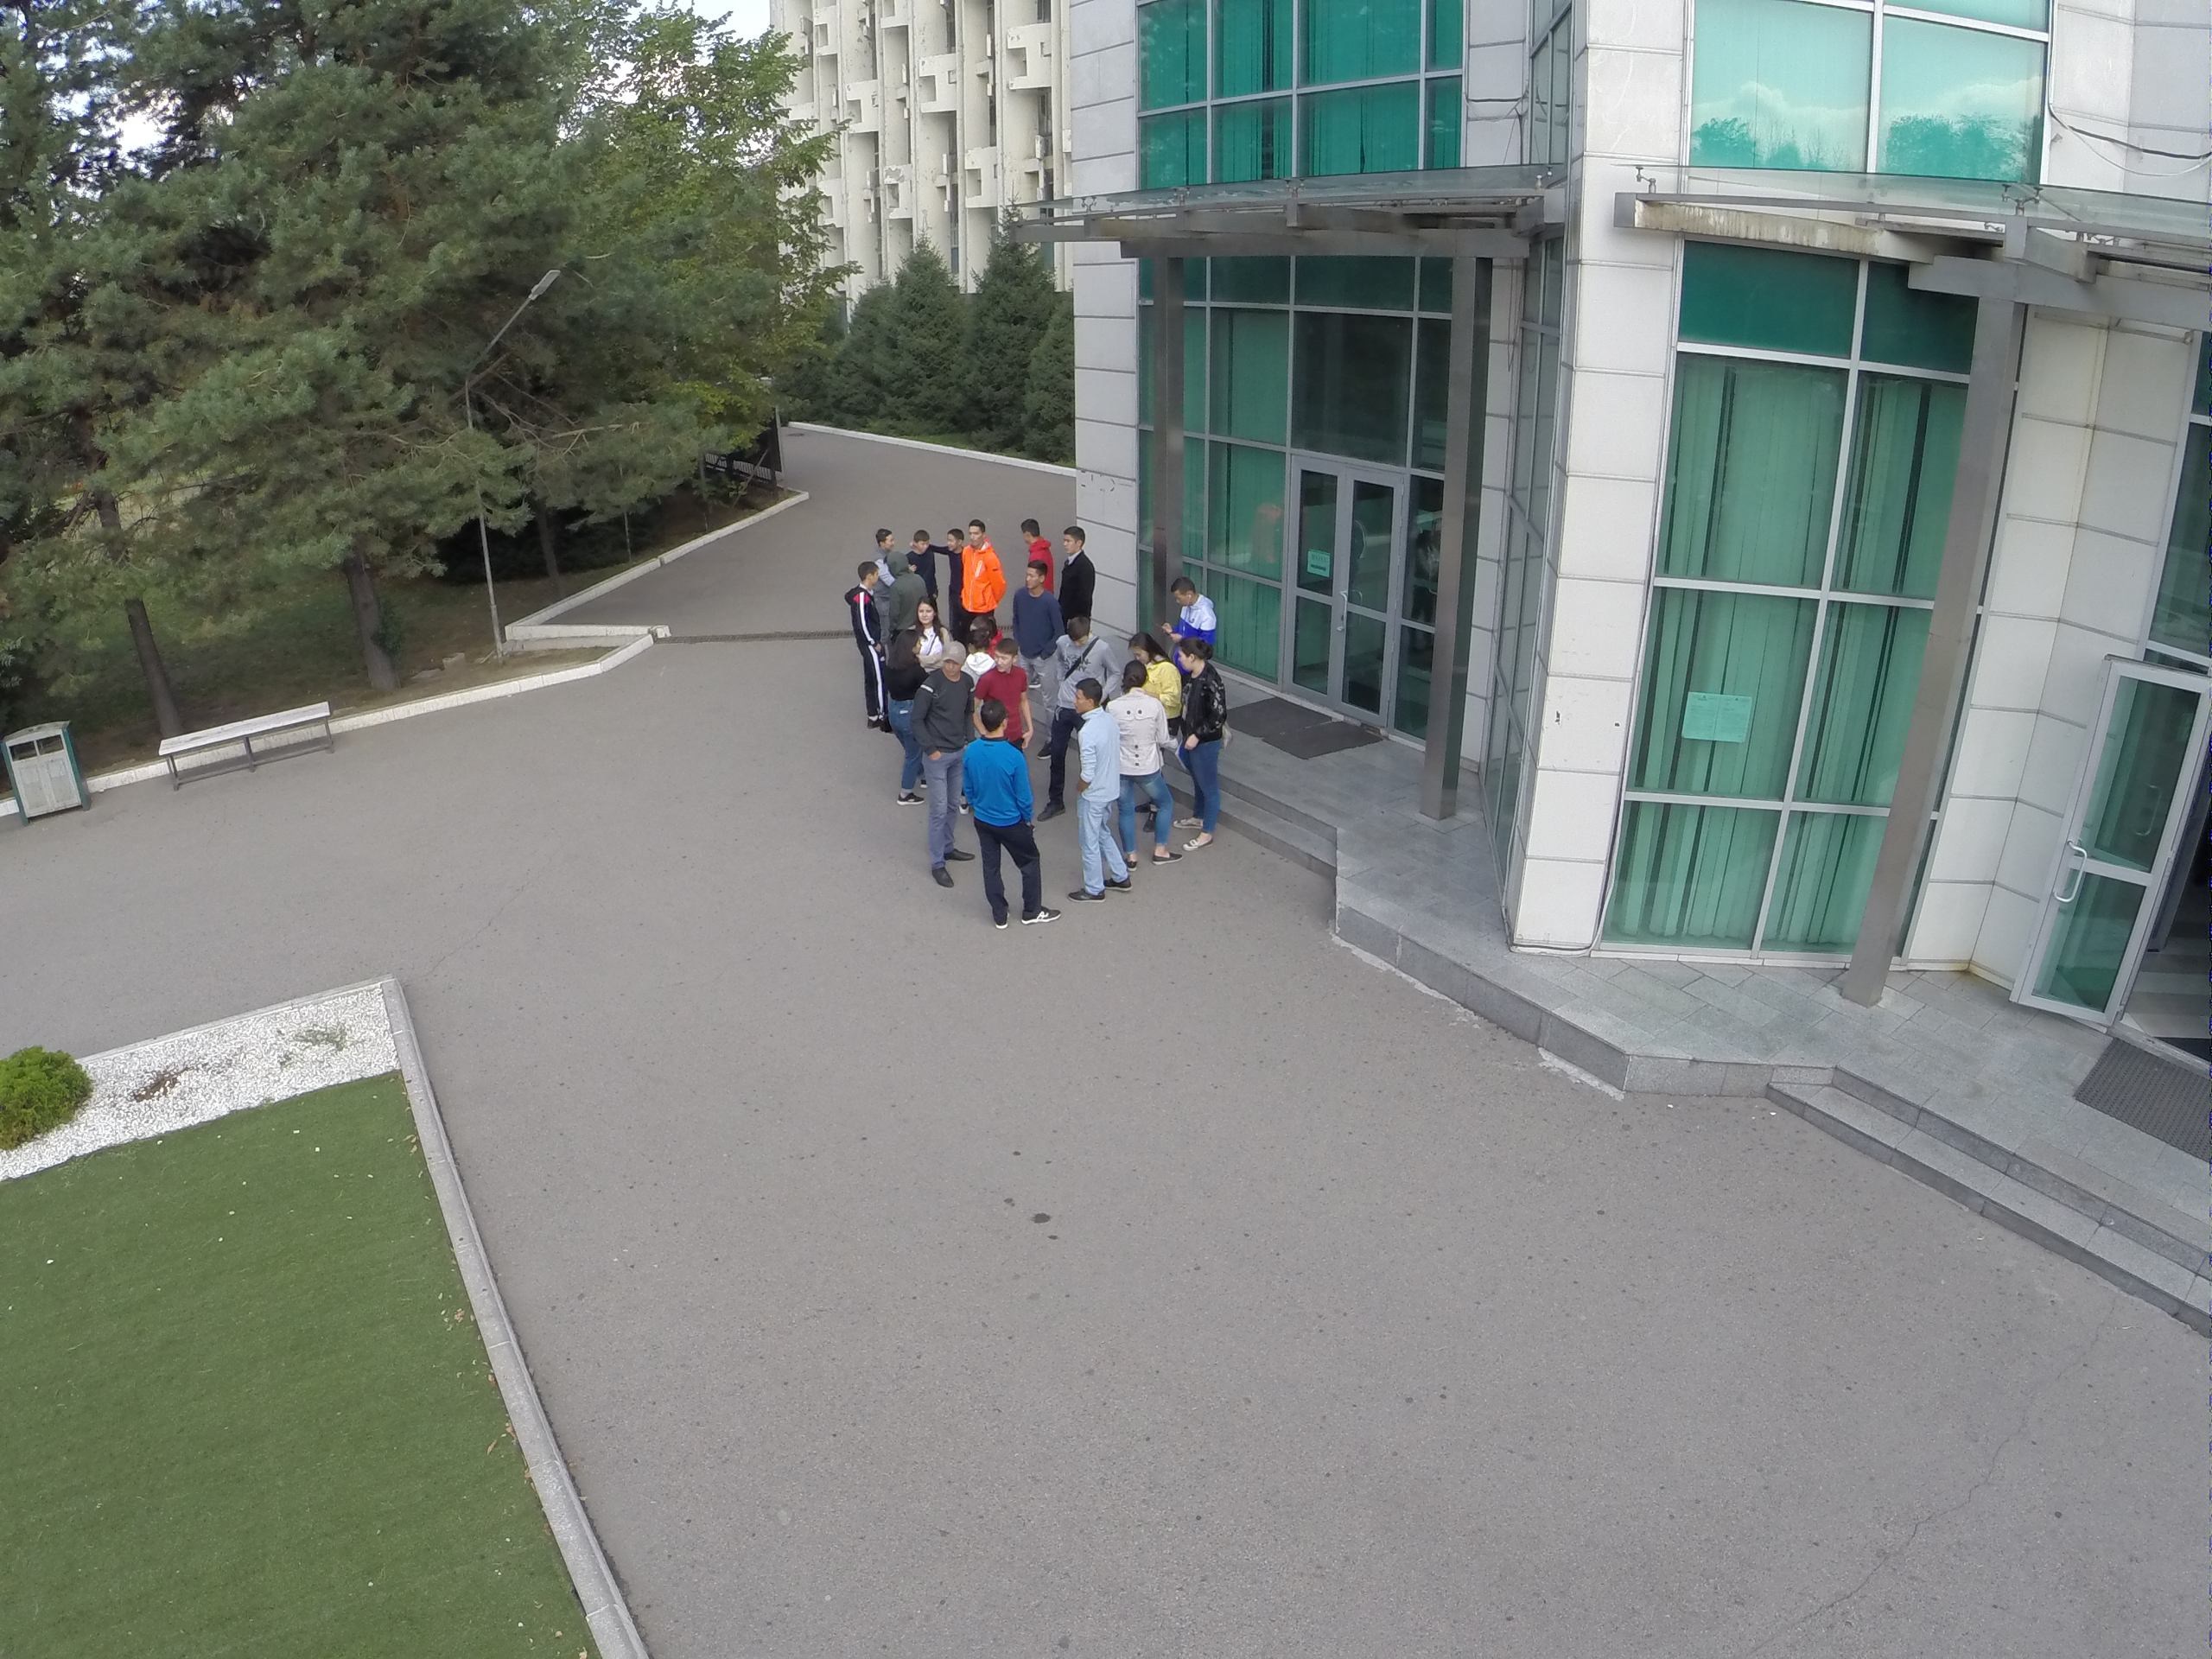person: (960, 702, 1065, 931), (1053, 686, 1135, 902), (1109, 670, 1185, 868), (1173, 630, 1235, 849), (928, 639, 976, 895), (841, 561, 896, 733), (886, 621, 929, 814), (960, 517, 1010, 613), (1014, 556, 1060, 658), (1053, 524, 1100, 619), (979, 636, 1027, 715), (1133, 629, 1183, 700), (1168, 576, 1227, 640), (1057, 620, 1114, 681), (941, 527, 969, 610), (920, 597, 954, 656), (1015, 518, 1050, 565), (868, 524, 896, 572), (912, 524, 933, 574)
